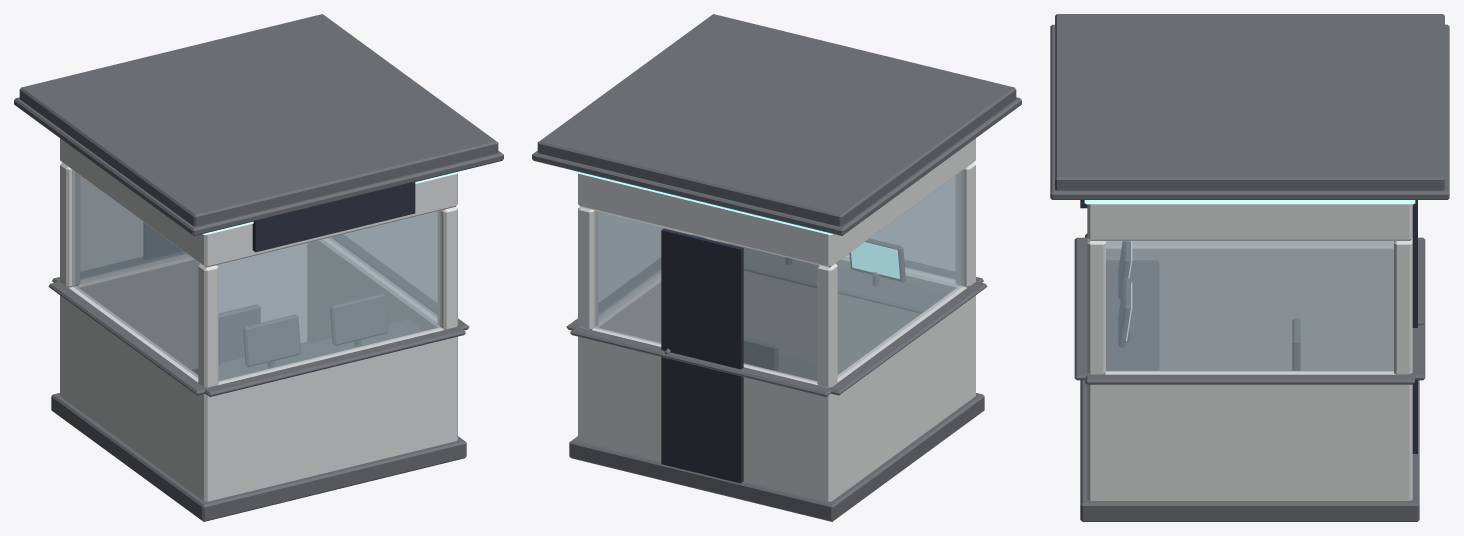
File: guard-booth.glb
3 renders of one model, left to right at view 1: azimuth 30°, elevation 25°; view 2: azimuth 150°, elevation 25°; view 3: azimuth 270°, elevation 25°, orthographic. The views are drawn at different scales.
Parts seen in each view (by area): view 1: Booth_Roof, Booth_Walls, Booth_Glass, Booth_Dark; view 2: Booth_Roof, Booth_Walls, Booth_Glass, Booth_Dark, Booth_Blue; view 3: Booth_Roof, Booth_Walls, Booth_Glass, Booth_Blue, Booth_Dark.
Part boxes in pixels (<box>): Booth_Roof: <box>14,14,503,521</box>; Booth_Walls: <box>60,138,457,501</box>; Booth_Glass: <box>72,169,441,382</box>; Booth_Dark: <box>144,182,415,259</box>; Booth_Roof: <box>532,14,1021,521</box>; Booth_Walls: <box>578,138,975,501</box>; Booth_Glass: <box>594,170,963,382</box>; Booth_Dark: <box>661,228,743,483</box>; Booth_Blue: <box>574,171,899,278</box>; Booth_Roof: <box>1050,14,1449,521</box>; Booth_Walls: <box>1087,204,1412,500</box>; Booth_Glass: <box>1106,241,1393,371</box>; Booth_Blue: <box>1084,200,1415,340</box>; Booth_Dark: <box>1080,200,1417,453</box>.
Bounding box in the file's own units: 8.6 × 8.45 × 8.6.
